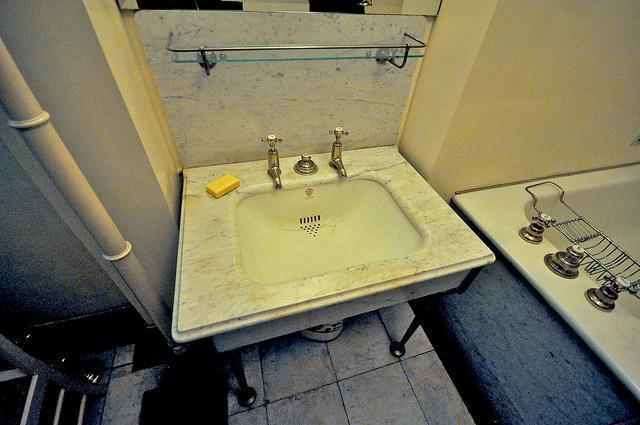Ducha: (452, 171, 639, 424)
Lavamanos: (166, 131, 484, 361)
